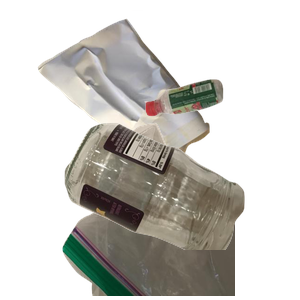glass: (62, 120, 300, 300)
paper: (35, 10, 237, 178)
plastic: (142, 77, 300, 186)
trash: (60, 120, 300, 300)
